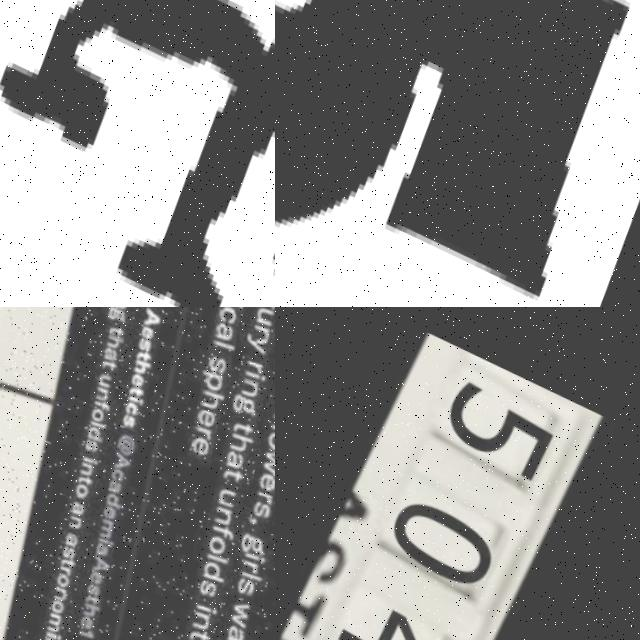0: (369, 463, 518, 605)
1: (71, 619, 90, 633)
4: (317, 567, 467, 640)
5: (275, 0, 640, 307), (425, 347, 575, 489)
F: (0, 0, 275, 307)
